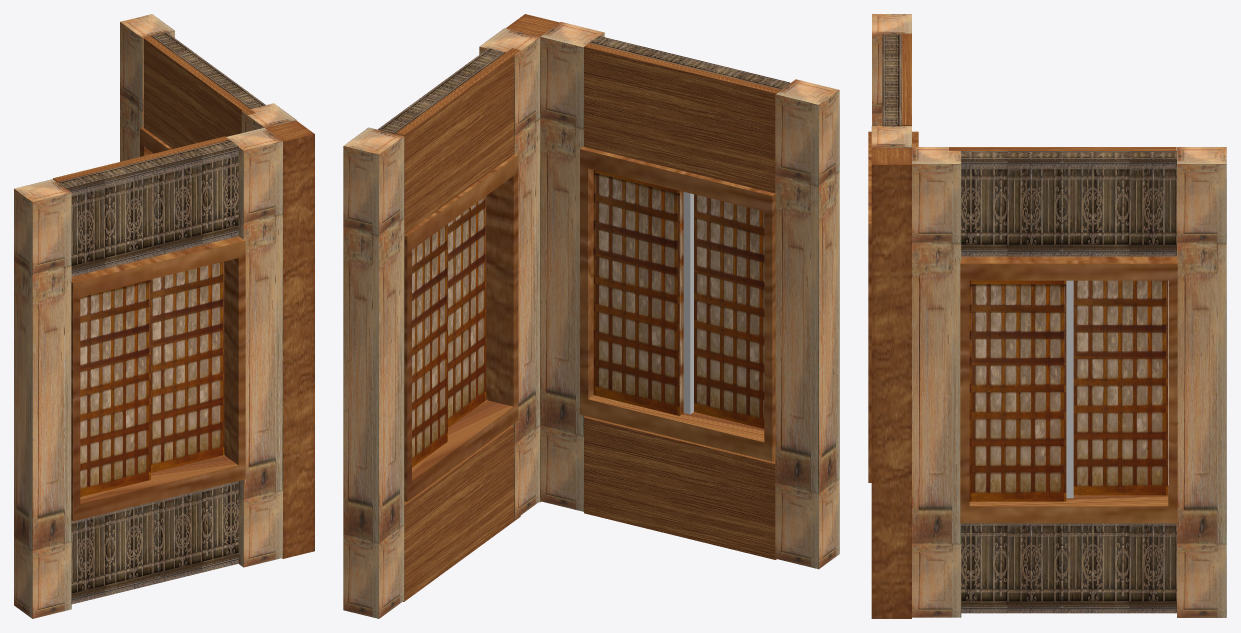
Rendered from wood_wall_corner.fbx.
The picture shows the model from 3 angles, left to right: view 1: azimuth 30°, elevation 25°; view 2: azimuth 150°, elevation 25°; view 3: azimuth 270°, elevation 25°; orthographic projection. The views are drawn at different scales.
Parts seen in each view (by area): view 1: wood_wall.001, Cube.003, Cube.004, window_frame.001, window.003, window.006, Cube.002, Cube.014, Cube.020, wood_wall.003, Cube.005, Cube.006 (+2 smaller); view 2: wood_wall.001, wood_wall.003, window.003, Cube.025, Cube.003, Cube.026, window.006, window_frame.003, window_frame.001, Cube.006, Cube.020, Cube.024 (+6 smaller); view 3: wood_wall.003, Cube.006, Cube.005, window.008, window.007, Cube.007, Cube.014, window_frame.003, wood_wall.001, Cube.004, Cube.008, window_frame.001 (+3 smaller).
Part boxes in pixels (box(x1,y1,x2,y2)): wood_wall.001: box(14, 179, 71, 618); Cube.003: box(226, 127, 282, 567); Cube.004: box(58, 140, 238, 276); window_frame.001: box(71, 236, 245, 521); window.003: box(151, 261, 224, 472); window.006: box(80, 279, 150, 496); Cube.002: box(71, 481, 238, 604); Cube.014: box(265, 120, 314, 558); Cube.020: box(143, 36, 255, 148); wood_wall.003: box(120, 14, 174, 161); Cube.005: box(151, 32, 265, 108); Cube.006: box(241, 103, 296, 132); wood_wall.001: box(775, 79, 839, 569); wood_wall.003: box(343, 127, 404, 618); window.003: box(593, 170, 683, 415); Cube.025: box(584, 43, 780, 193); Cube.003: box(540, 22, 604, 511); Cube.026: box(584, 416, 776, 559); window.006: box(694, 194, 764, 428); window_frame.003: box(404, 154, 518, 501); window_frame.001: box(580, 146, 775, 461); Cube.006: box(479, 28, 540, 519); Cube.020: box(395, 48, 520, 234); Cube.024: box(403, 425, 520, 601); wood_wall.003: box(1177, 147, 1226, 617); Cube.006: box(912, 147, 961, 617); Cube.005: box(960, 151, 1176, 256); window.008: box(969, 280, 1066, 501); window.007: box(1073, 280, 1167, 495); Cube.007: box(961, 523, 1176, 613); Cube.014: box(871, 148, 911, 618); window_frame.003: box(960, 256, 1177, 523); wood_wall.001: box(872, 14, 911, 125); Cube.004: box(882, 34, 901, 126); Cube.008: box(1066, 280, 1073, 498); window_frame.001: box(868, 131, 918, 482).
Size of the model in its own units: 293 by 408 by 290.
14 materials, 14 textured.
